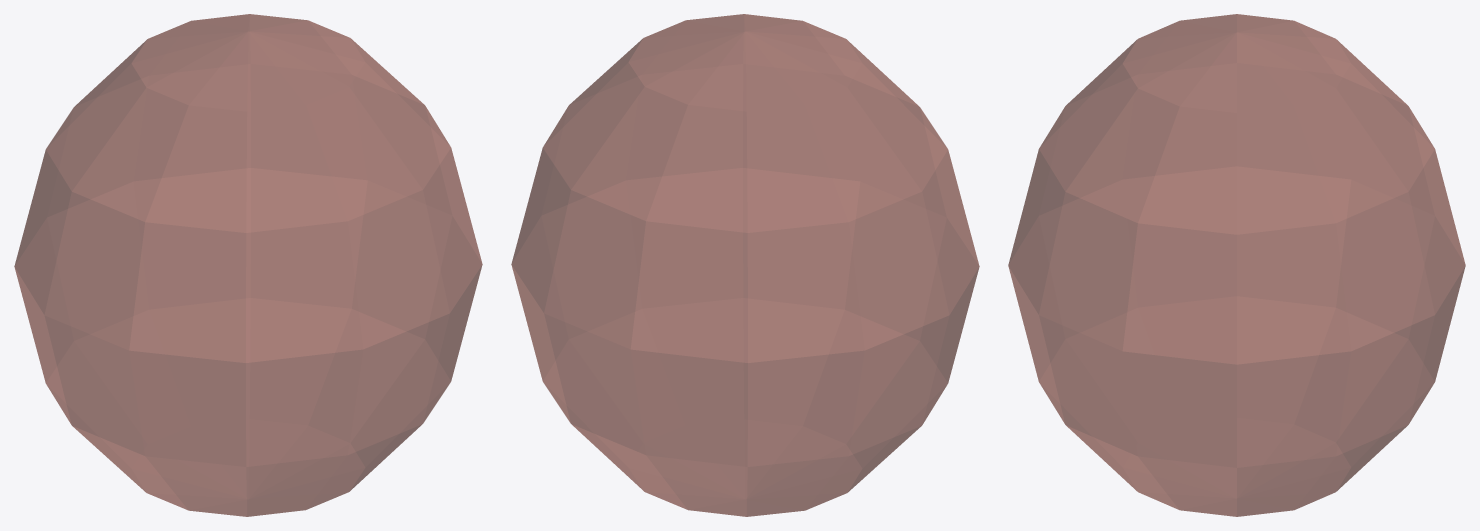
The model's file is EatenCore.fbx.
3 renders of one model, left to right at view 1: azimuth 30°, elevation 25°; view 2: azimuth 150°, elevation 25°; view 3: azimuth 270°, elevation 25°, orthographic.
Visible parts, largest first — view 1: pSphere5; view 2: pSphere5; view 3: pSphere5.
Part boxes in pixels (bbox=[...]): pSphere5: bbox=[14, 14, 482, 516]; pSphere5: bbox=[511, 14, 979, 516]; pSphere5: bbox=[1008, 14, 1465, 516].
Bounding box in the file's own units: 7.99 × 8.75 × 7.78.
